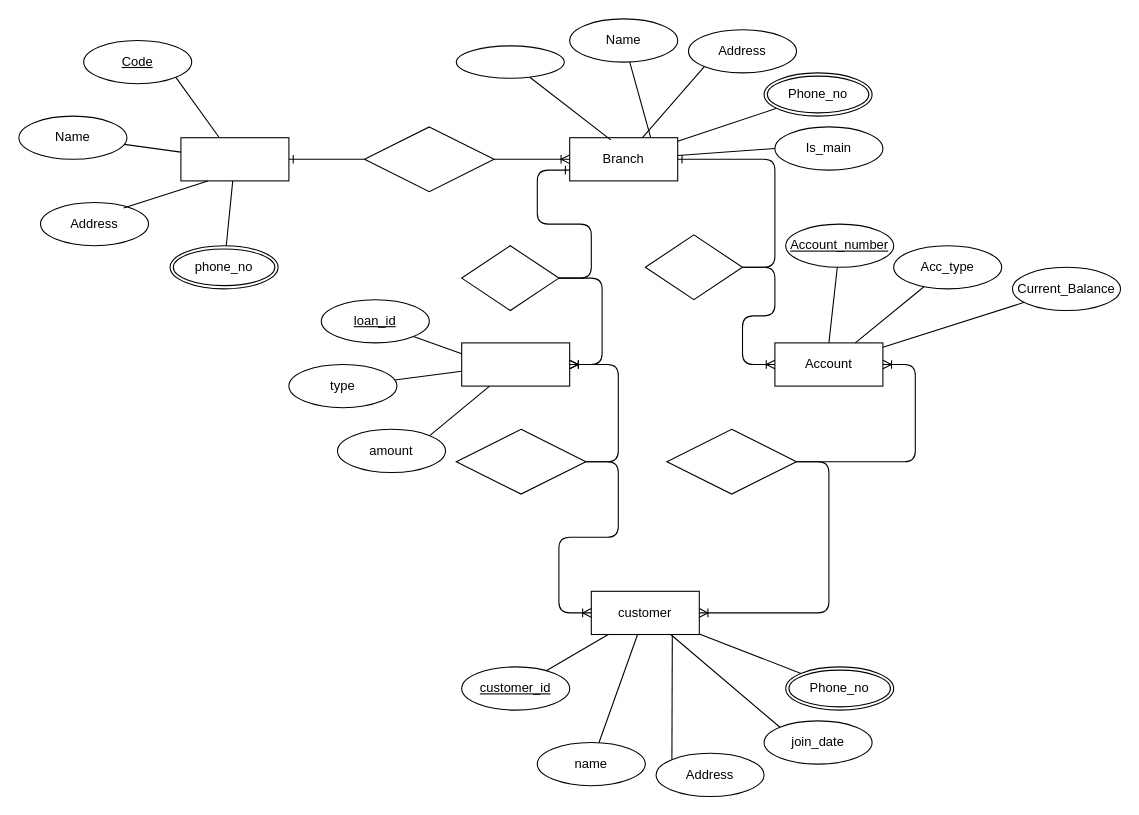
The diagram is 1139 pixels wide and 815 high, and some of its shapes have lost their labels. The shapes that lost their labels are listed below. From the top down, each one's box as (x1, y1, x2, y2) in pixels, then its label:
(455, 45, 564, 78): Branch_id
(180, 137, 289, 181): Bank
(363, 126, 494, 192): Has
(461, 245, 559, 310): offer
(644, 234, 742, 300): maintain
(461, 342, 570, 386): Loan
(455, 428, 586, 494): get
(666, 428, 796, 494): Hold
